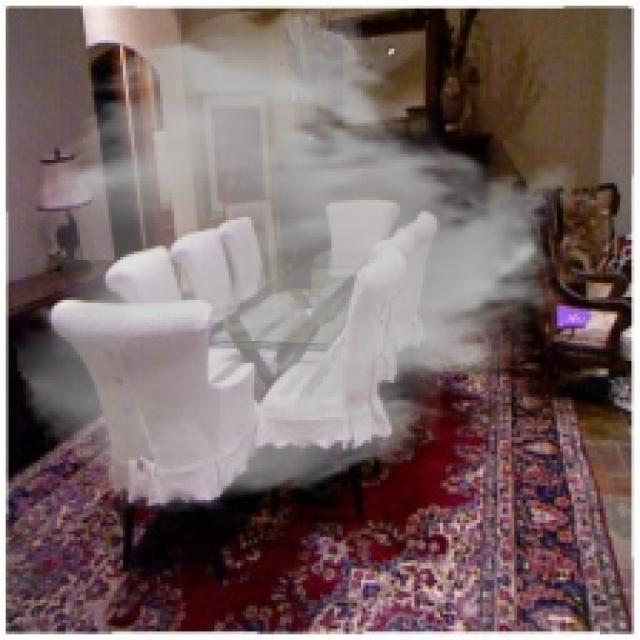smoke: (11, 3, 580, 517)
